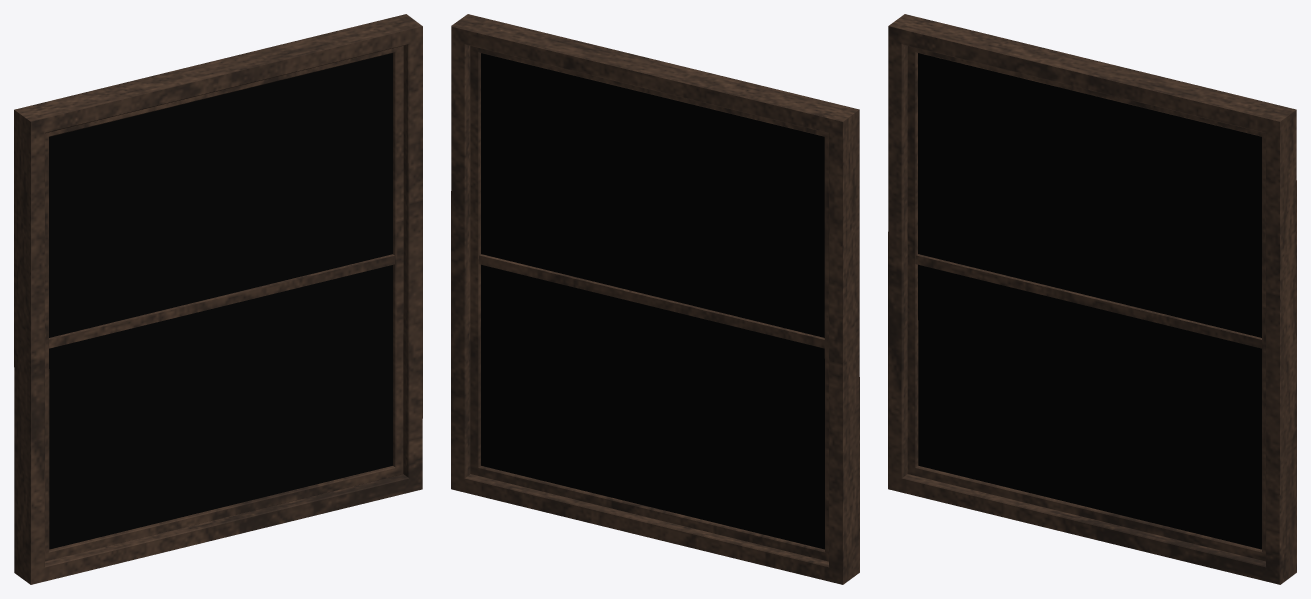
File: WindowFactory65507.spawn_asset8.glb
3 renders of one model, left to right at view 1: azimuth 30°, elevation 25°; view 2: azimuth 150°, elevation 25°; view 3: azimuth 330°, elevation 25°, orthographic.
Parts seen in each view (by area): view 1: WindowFactory(65507).spawn_asset(8).001; view 2: WindowFactory(65507).spawn_asset(8).001; view 3: WindowFactory(65507).spawn_asset(8).001.
Part boxes in pixels (box(x1,y1,x2,y2)): WindowFactory(65507).spawn_asset(8).001: box(14, 14, 422, 584); WindowFactory(65507).spawn_asset(8).001: box(451, 14, 859, 584); WindowFactory(65507).spawn_asset(8).001: box(888, 14, 1296, 584).
Size of the model in its own units: 1.26 by 1.42 by 0.0942.
1 material, 1 textured.
